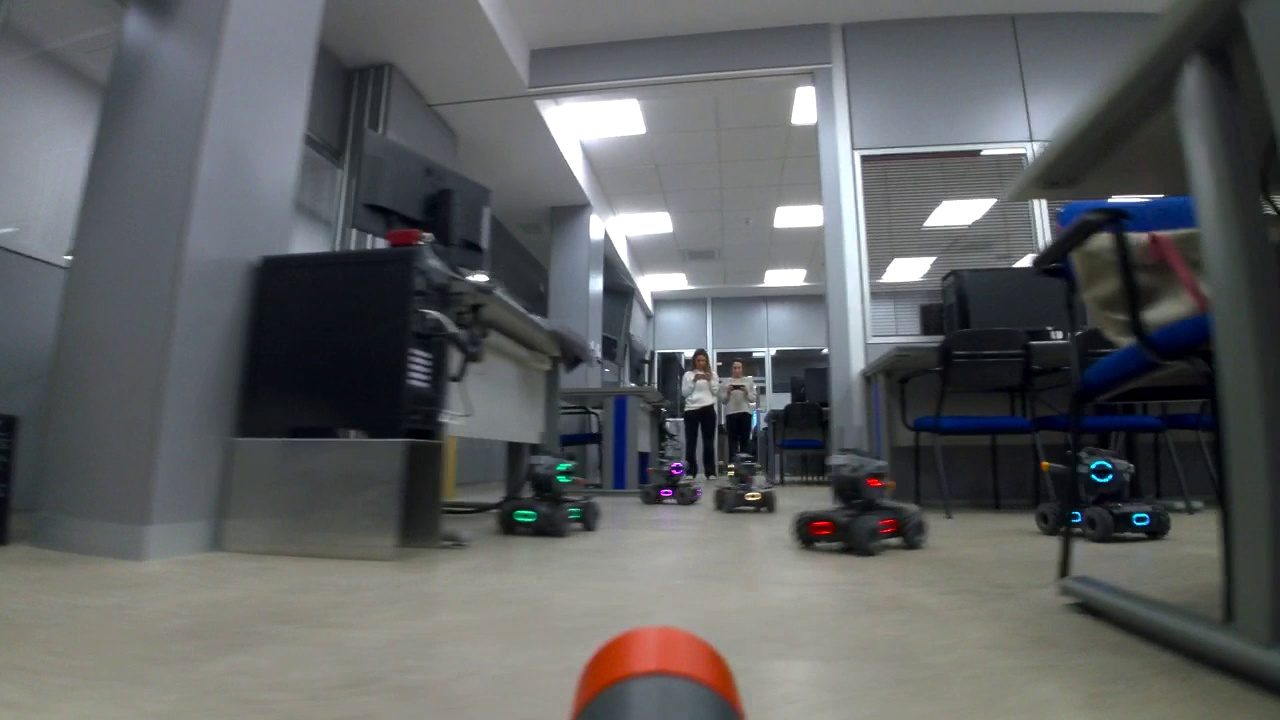robot: (790, 448, 930, 559), (1033, 447, 1174, 545), (495, 453, 602, 541), (712, 452, 779, 515), (636, 456, 701, 508)
